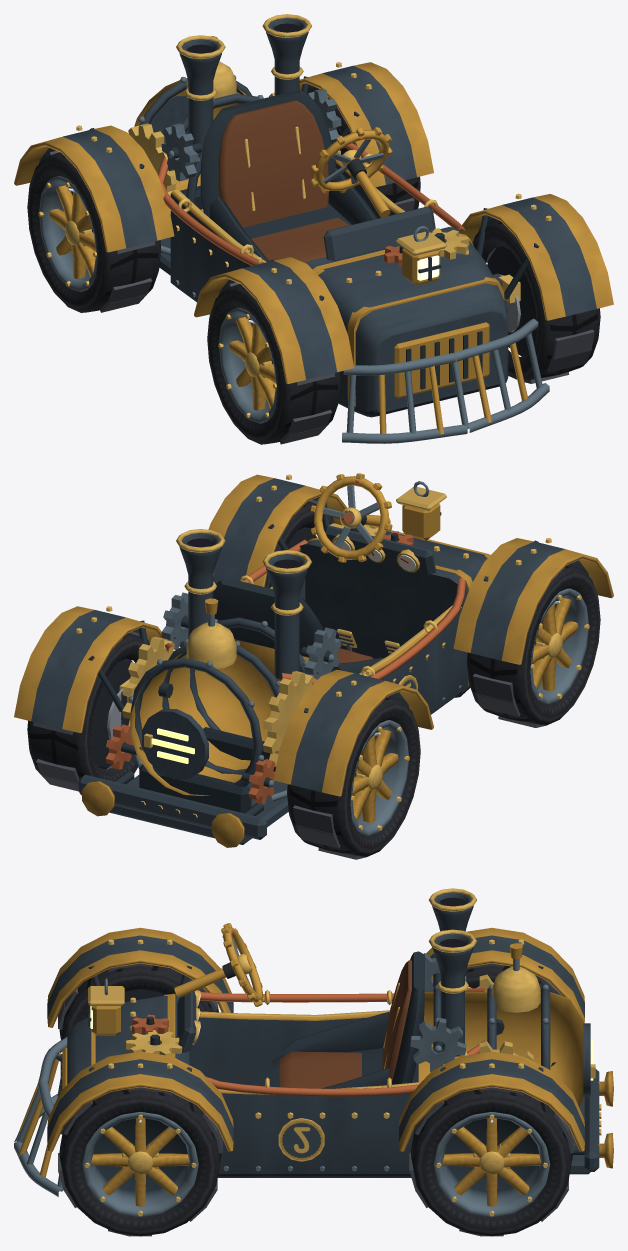
File: engrenagem.glb
The picture shows the model from 3 angles, top to bottom: view 1: azimuth 30°, elevation 25°; view 2: azimuth 150°, elevation 25°; view 3: azimuth 270°, elevation 25°; orthographic projection. The views are drawn at different scales.
Parts seen in each view (by area): view 1: body_mesh, wheel_fr_mesh, wheel_rr_mesh, wheel_fl_mesh, steering_mesh, wheel_rl_mesh; view 2: body_mesh, wheel_rr_mesh, wheel_fr_mesh, wheel_rl_mesh, steering_mesh, wheel_fl_mesh; view 3: body_mesh, wheel_rl_mesh, wheel_fl_mesh, wheel_fr_mesh, steering_mesh, wheel_rr_mesh.
Boxes of the visible parts, <box> form: body_mesh: <box>14,14,613,443</box>; wheel_fr_mesh: <box>207,282,340,444</box>; wheel_rr_mesh: <box>27,150,161,312</box>; wheel_fl_mesh: <box>472,220,600,383</box>; steering_mesh: <box>310,127,392,193</box>; wheel_rl_mesh: <box>307,89,420,211</box>; body_mesh: <box>14,474,613,847</box>; wheel_rr_mesh: <box>287,696,420,859</box>; wheel_fr_mesh: <box>467,564,600,727</box>; wheel_rl_mesh: <box>27,631,149,791</box>; steering_mesh: <box>310,473,392,562</box>; wheel_fl_mesh: <box>265,500,334,588</box>; body_mesh: <box>14,888,613,1196</box>; wheel_rl_mesh: <box>409,1087,574,1236</box>; wheel_fl_mesh: <box>58,1087,222,1236</box>; wheel_fr_mesh: <box>58,963,218,1039</box>; steering_mesh: <box>221,923,264,1006</box>; wheel_rr_mesh: <box>465,963,561,995</box>.
Bounding box in the file's own units: 1.51 × 1.12 × 2.46.
Materials: 11 (4 with a texture image).
